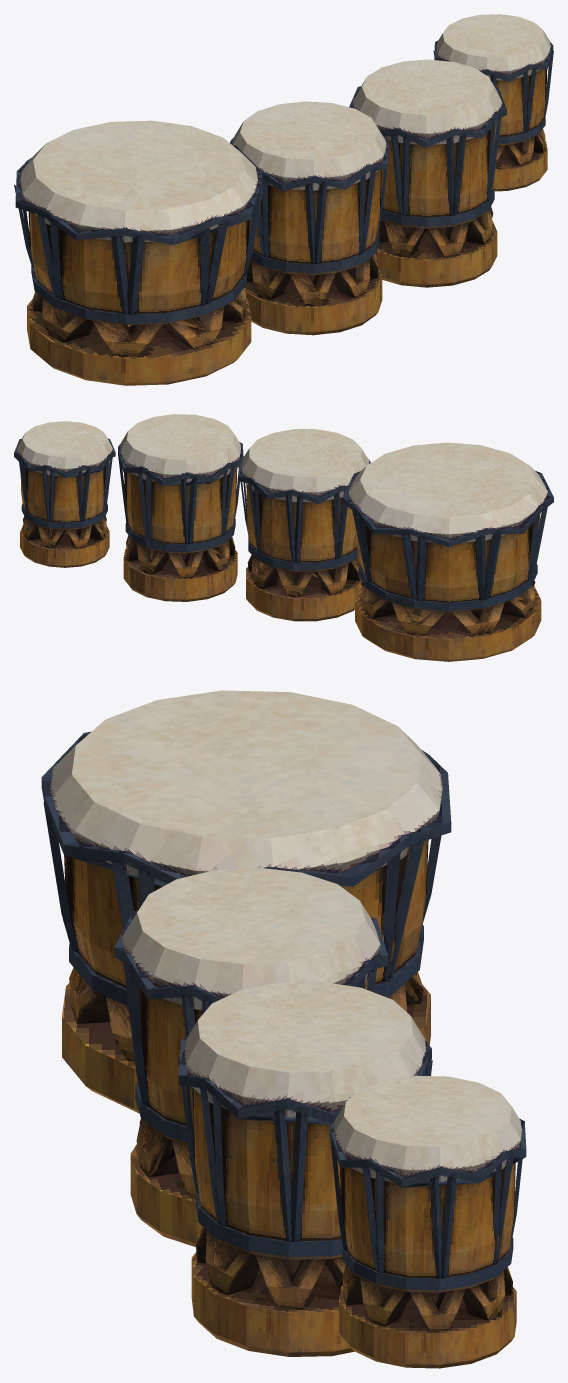
File: item_hawaiian_drum.glb
3 renders of one model, top to bottom at view 1: azimuth 30°, elevation 25°; view 2: azimuth 150°, elevation 25°; view 3: azimuth 270°, elevation 25°, orthographic. The views are drawn at different scales.
Parts seen in each view (by area): view 1: HawaiianDrum_Big, HawaiianDrum_Mid2, HawaiianDrum_Mid, HawaiianDrum_Small; view 2: HawaiianDrum_Big, HawaiianDrum_Mid2, HawaiianDrum_Mid, HawaiianDrum_Small; view 3: HawaiianDrum_Big, HawaiianDrum_Mid, HawaiianDrum_Small, HawaiianDrum_Mid2.
Boxes of the visible parts, x1,y1,x2,y2 form: HawaiianDrum_Big: (14,120,264,385); HawaiianDrum_Mid2: (230,101,389,335); HawaiianDrum_Mid: (349,59,506,287); HawaiianDrum_Small: (433,14,553,191); HawaiianDrum_Big: (342,442,553,661); HawaiianDrum_Mid2: (238,429,370,621); HawaiianDrum_Mid: (118,414,243,601); HawaiianDrum_Small: (14,421,115,567); HawaiianDrum_Big: (41,690,451,1113); HawaiianDrum_Mid: (178,981,432,1356); HawaiianDrum_Small: (329,1075,526,1368); HawaiianDrum_Mid2: (114,867,388,1246).
Size of the model in its own units: 0.776 by 0.2386 by 0.3471.
Materials: 1 (1 with a texture image).
